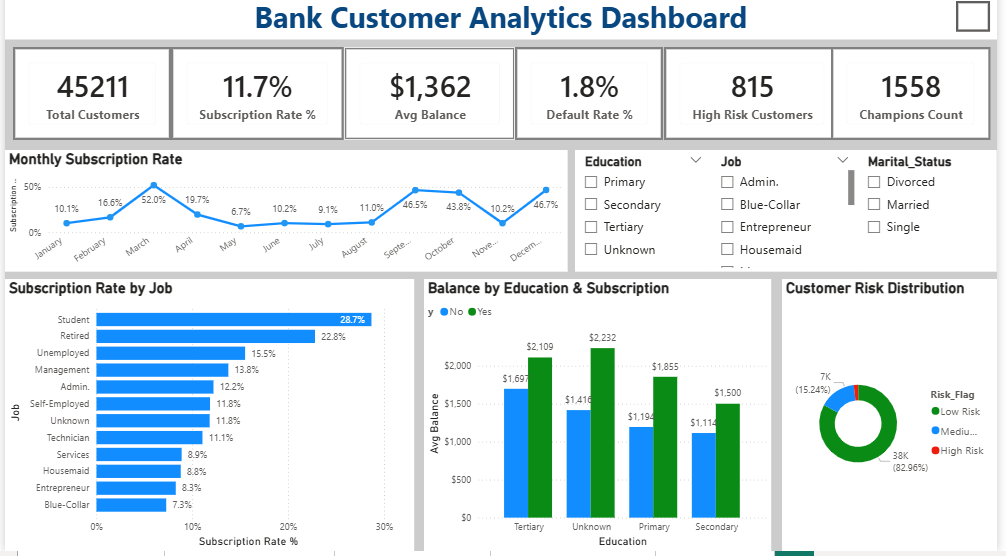

This screenshot's page, from the dashboard's own definition file:
{"tool":"powerbi","page":{"name":"Executive Summary","canvas":[1280,720],"ordinal":0},"visuals":[{"type":"cardVisual","fields":{"Data":["_Measures.Total Customers"]},"box":[10,70,204.3,120],"z":0},{"type":"cardVisual","fields":{"Data":["_Measures.Subscription Rate %"]},"box":[214.3,70,222.9,120],"z":1000},{"type":"cardVisual","fields":{"Data":["_Measures.Avg Balance"]},"box":[437.1,70,221.4,120],"z":2000},{"type":"cardVisual","fields":{"Data":["_Measures.Default Rate %"]},"box":[658.6,70,191.4,120],"z":3000},{"type":"cardVisual","fields":{"Data":["_Measures.High Risk Customers"]},"box":[850,70,227.1,120],"z":4000},{"type":"cardVisual","fields":{"Data":["_Measures.Champions Count"]},"box":[1065.7,70,205.7,120],"z":5000},{"type":"clusteredBarChart","title":"Subscription Rate by Job","fields":{"Category":["Bank_Customers.Job"],"Y":["_Measures.Subscription Rate %"]},"box":[0,368.8,527.5,351.2],"z":6000},{"type":"clusteredColumnChart","title":"Balance by Education & Subscription","fields":{"Category":["Bank_Customers.Education"],"Y":["_Measures.Avg Balance"],"Series":["Bank_Customers.y"]},"box":[541.2,368.8,447.5,351.2],"z":7000},{"type":"donutChart","title":"Customer Risk Distribution","fields":{"Category":["Bank_Customers.Risk_Flag"],"Y":["_Measures.Total Customers"]},"box":[1002.5,368.8,277.5,351.2],"z":8000},{"type":"lineChart","title":"Monthly Subscription Rate","fields":{"Y":["_Measures.Subscription Rate %"],"Category":["Month_Table.Month_Name"]},"box":[0,202.7,725.7,157.3],"z":9000},{"type":"slicer","fields":{"Values":["Bank_Customers.Education"]},"box":[735.6,202.7,175.7,157.3],"z":10000},{"type":"slicer","fields":{"Values":["Bank_Customers.Job"]},"box":[911.3,202.7,189.9,157.3],"z":11000},{"type":"slicer","fields":{"Values":["Bank_Customers.Marital_Status"]},"box":[1101.3,202.7,178.6,157.3],"z":12000},{"type":"textbox","box":[0,0,1279.8,59.5],"z":13000},{"type":"actionButton","box":[1227.4,9.9,43.9,39.7],"z":13001}]}

Visuals, with their boxes in screenshot pixels (x1, y1, x2, y2), scaled from the page's 1280x720 canvas onto the 1006x556 screenshot:
cardVisual - _Measures.Total Customers: box(8, 54, 168, 147)
cardVisual - _Measures.Subscription Rate %: box(168, 54, 344, 147)
cardVisual - _Measures.Avg Balance: box(344, 54, 518, 147)
cardVisual - _Measures.Default Rate %: box(518, 54, 668, 147)
cardVisual - _Measures.High Risk Customers: box(668, 54, 847, 147)
cardVisual - _Measures.Champions Count: box(838, 54, 999, 147)
"Subscription Rate by Job" clusteredBarChart: box(0, 285, 415, 555)
"Balance by Education & Subscription" clusteredColumnChart: box(425, 285, 777, 555)
"Customer Risk Distribution" donutChart: box(788, 285, 1005, 555)
"Monthly Subscription Rate" lineChart: box(0, 157, 570, 278)
slicer - Bank_Customers.Education: box(578, 157, 716, 278)
slicer - Bank_Customers.Job: box(716, 157, 865, 278)
slicer - Bank_Customers.Marital_Status: box(866, 157, 1005, 278)
textbox: box(0, 0, 1005, 46)
actionButton: box(965, 8, 999, 38)
